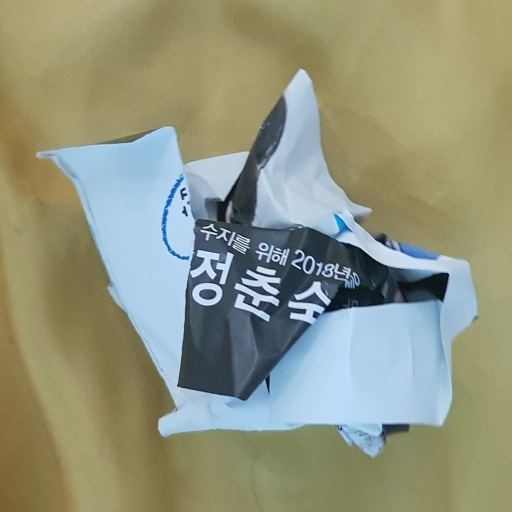Paper_3: (33, 64, 488, 476)
